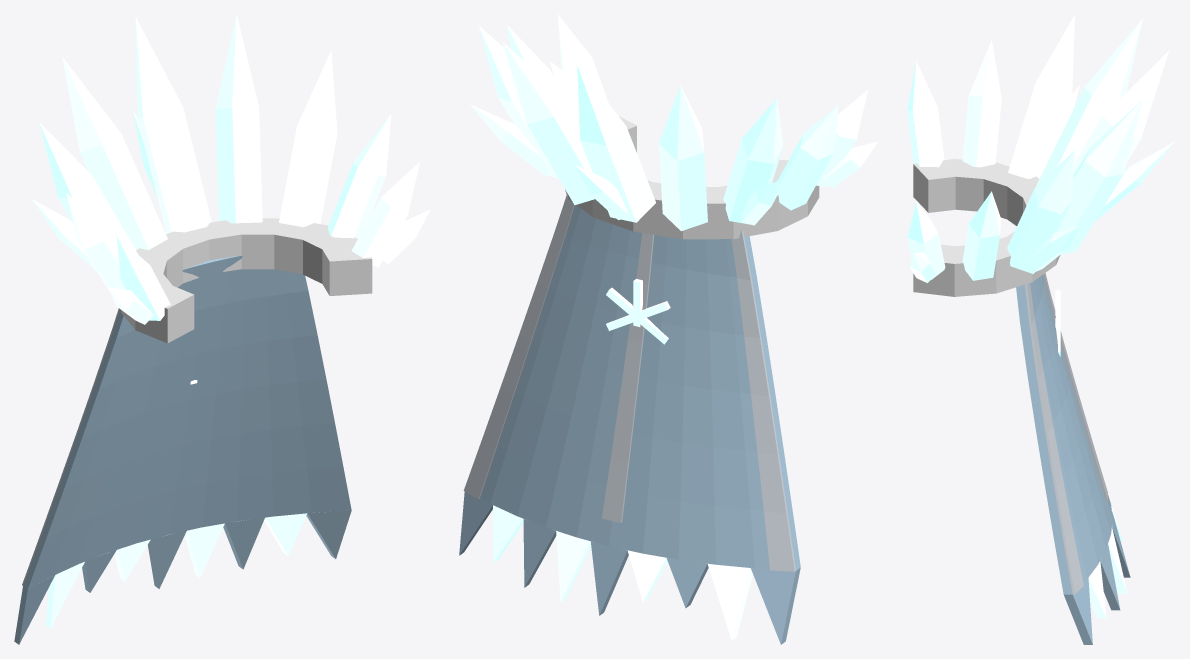
Rendered from S4_Ice_Mantle.fbx.
The picture shows the model from 3 angles, left to right: view 1: azimuth 30°, elevation 25°; view 2: azimuth 150°, elevation 25°; view 3: azimuth 270°, elevation 25°; orthographic projection. The views are drawn at different scales.
Parts seen in each view (by area): view 1: S4_Ice_Mantle; view 2: S4_Ice_Mantle; view 3: S4_Ice_Mantle.
Boxes of the visible parts, box(x1,y1,x2,y2) form: S4_Ice_Mantle: box(14, 14, 429, 644); S4_Ice_Mantle: box(459, 14, 878, 644); S4_Ice_Mantle: box(907, 14, 1175, 644).
Size of the model in its own units: 0.9845 by 1.61 by 0.738.
